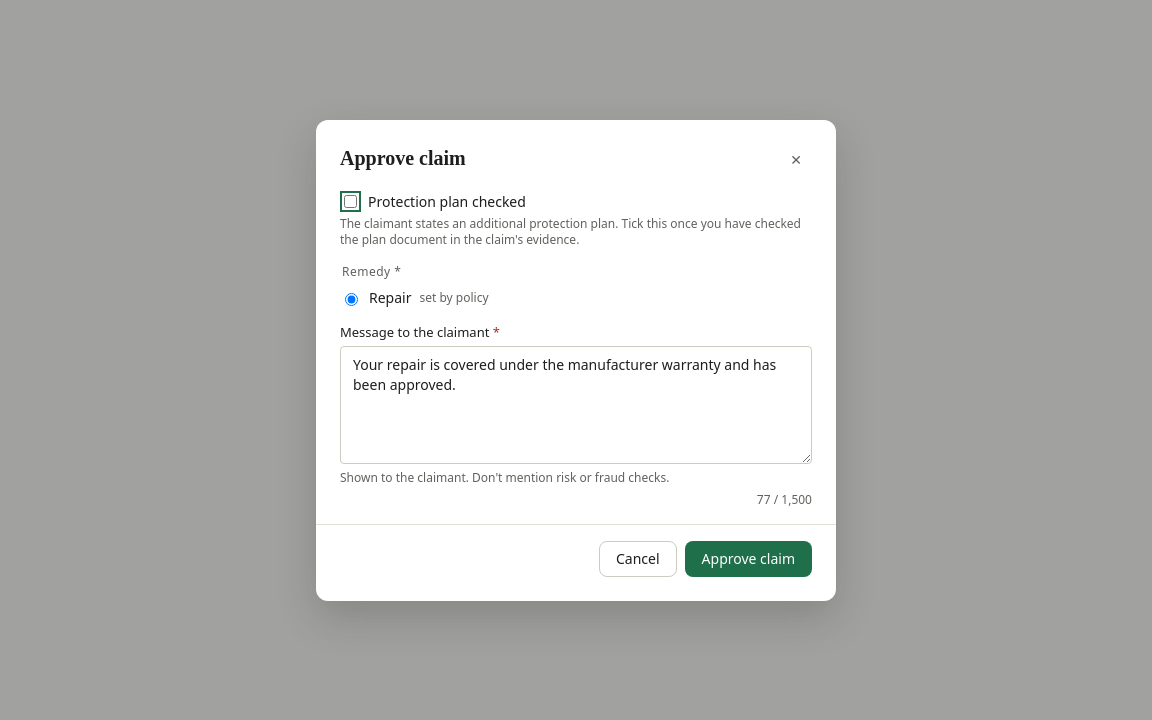
Test: ReviewDecisionForm › protection plan check (002 FR-036) › restores the policy remedy when unticked again
Click the checkbox labelled "Protection plan checked": click(350, 202) [344, 195, 357, 208]
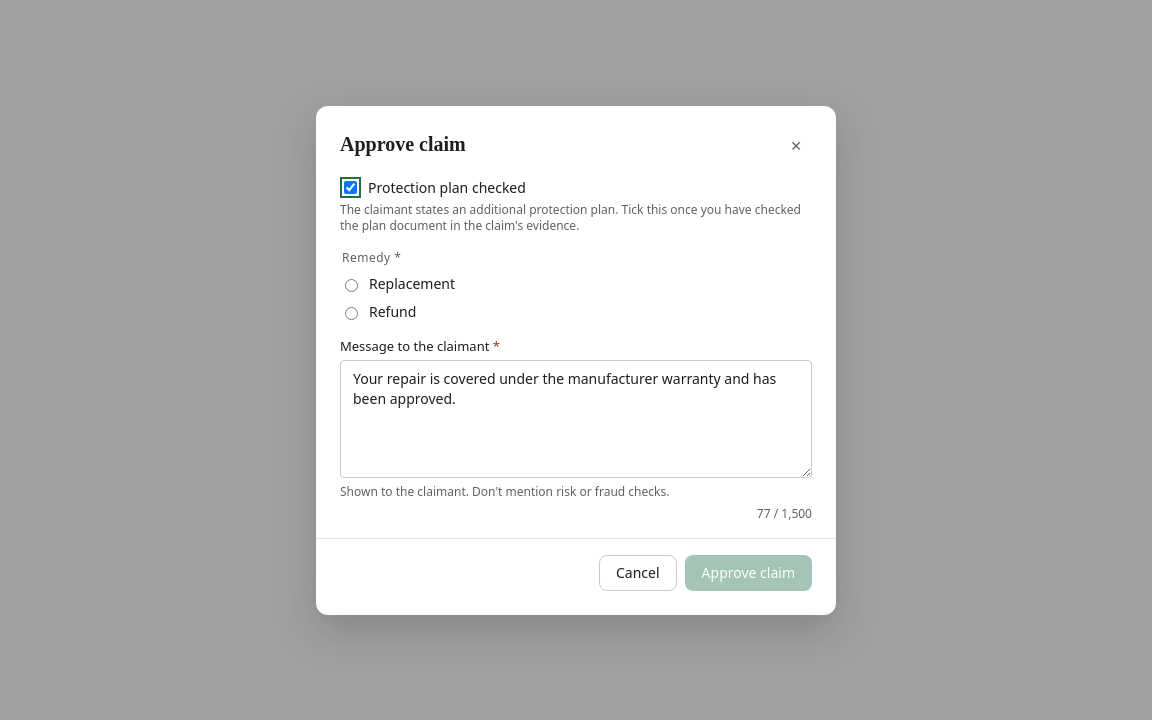
Click the checkbox labelled "Protection plan checked": click(350, 188) [344, 181, 357, 194]
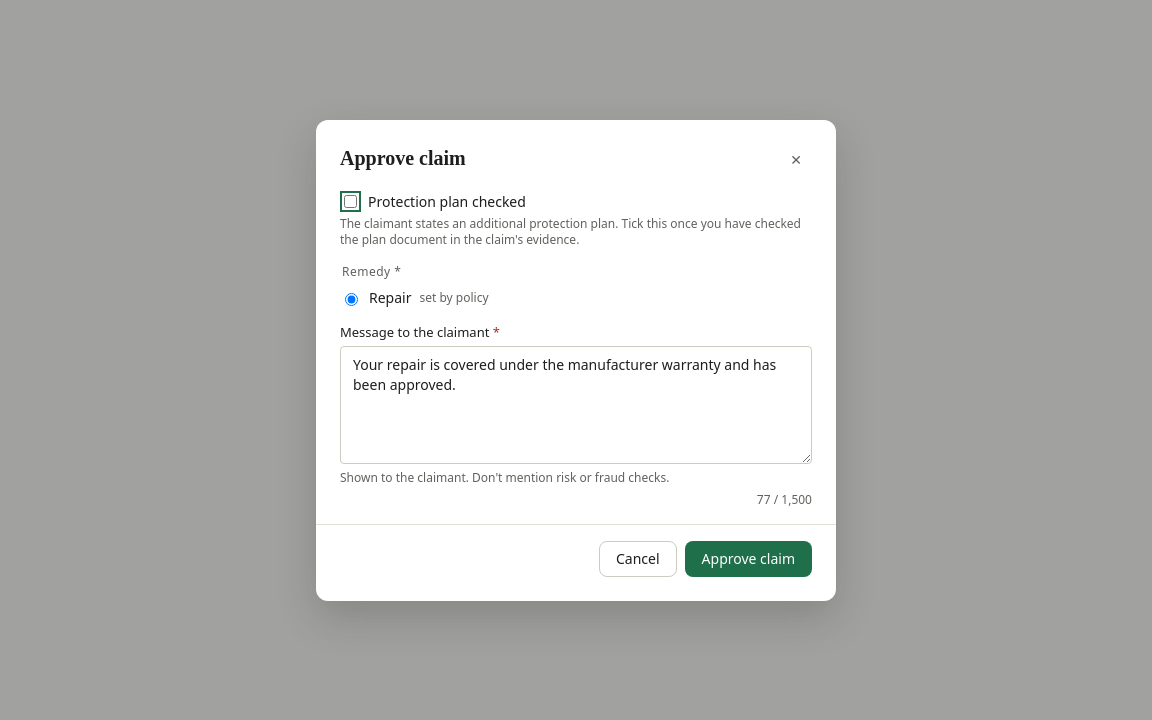
Now the radio button labelled "Repair set by policy" is checked, box [345, 292, 358, 306]
